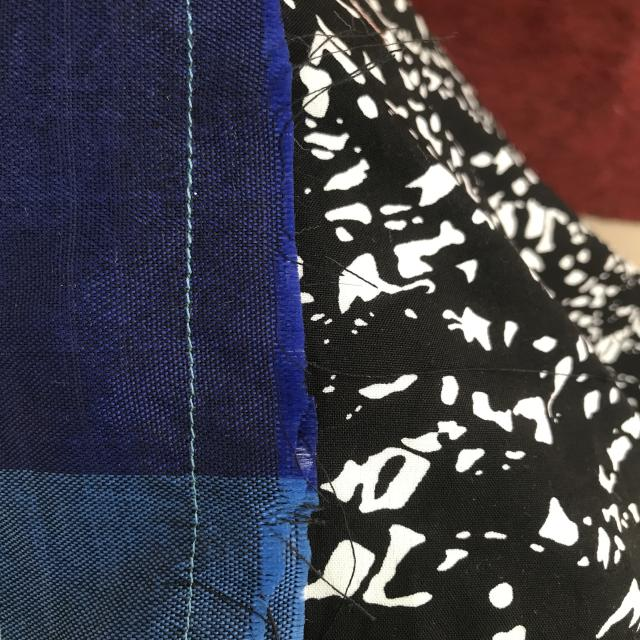good: (176, 202, 205, 347), (177, 35, 205, 179), (180, 405, 211, 532)
